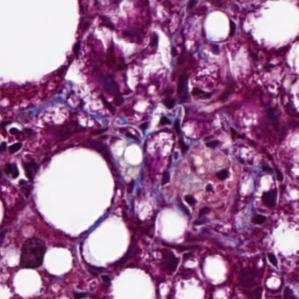inflammation: (140, 99, 198, 153), (0, 115, 36, 193), (13, 232, 51, 275)
